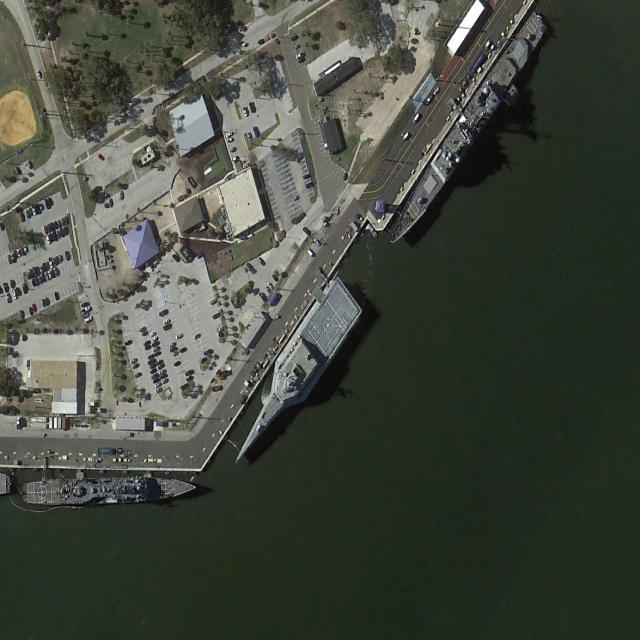Cruiser: (382, 7, 549, 254)
Frigate: (221, 271, 363, 485), (26, 474, 197, 506)
